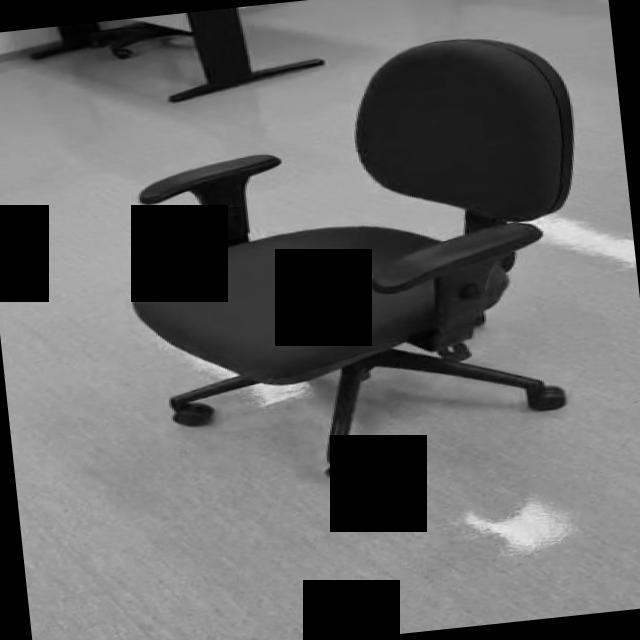chair: (108, 26, 612, 504)
